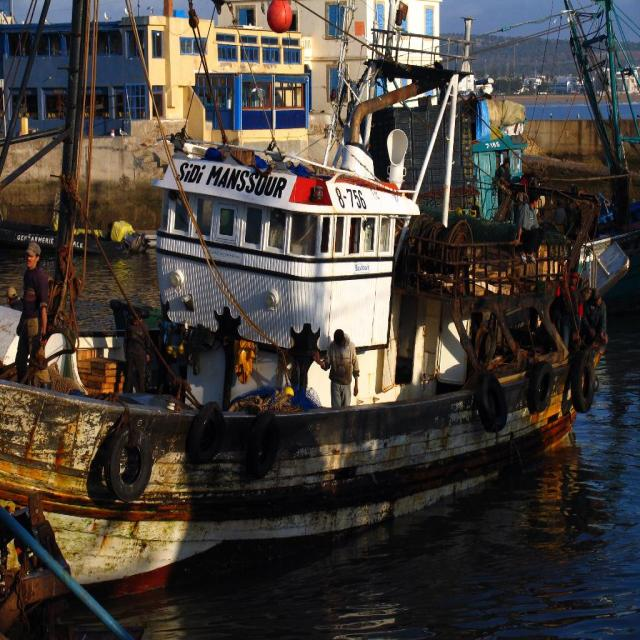Boat: (0, 0, 629, 633)
